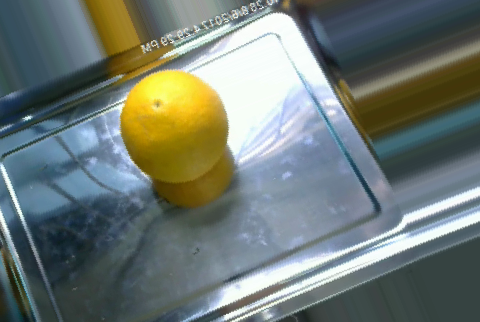Orange: (120, 68, 228, 183)
